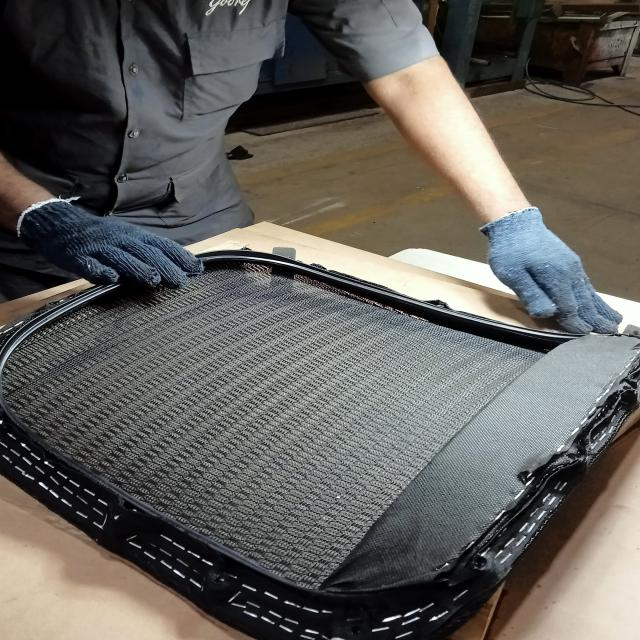Gloves-Detection: (471, 206, 628, 338), (10, 195, 196, 297)
